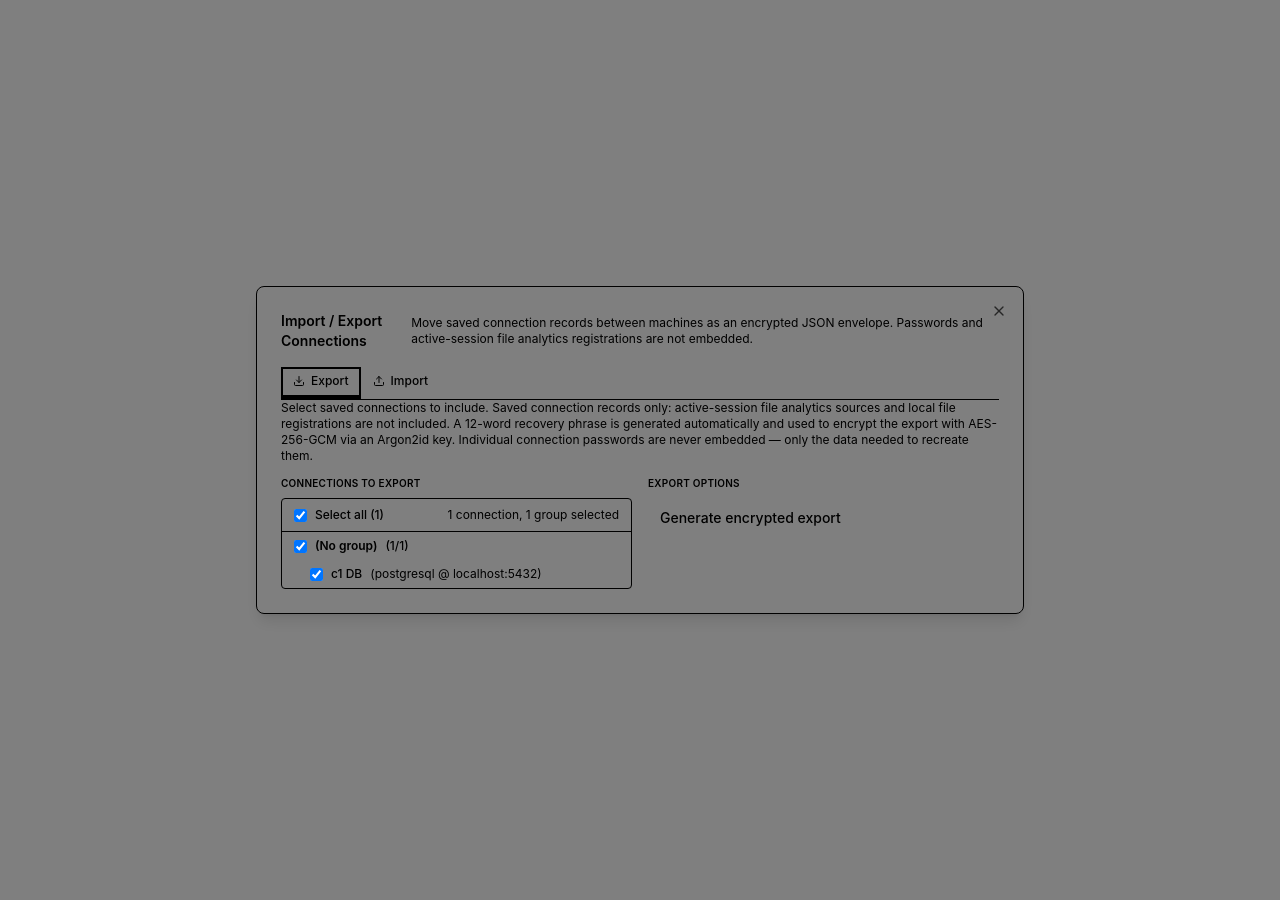
Test case: ImportExportDialog › Export › Generate button is disabled when 0 connections are selected
Uncheck the only connection via select-all.
Step 1. Click the checkbox labelled "Select all (1)" → (300, 515), box [294, 508, 307, 522]
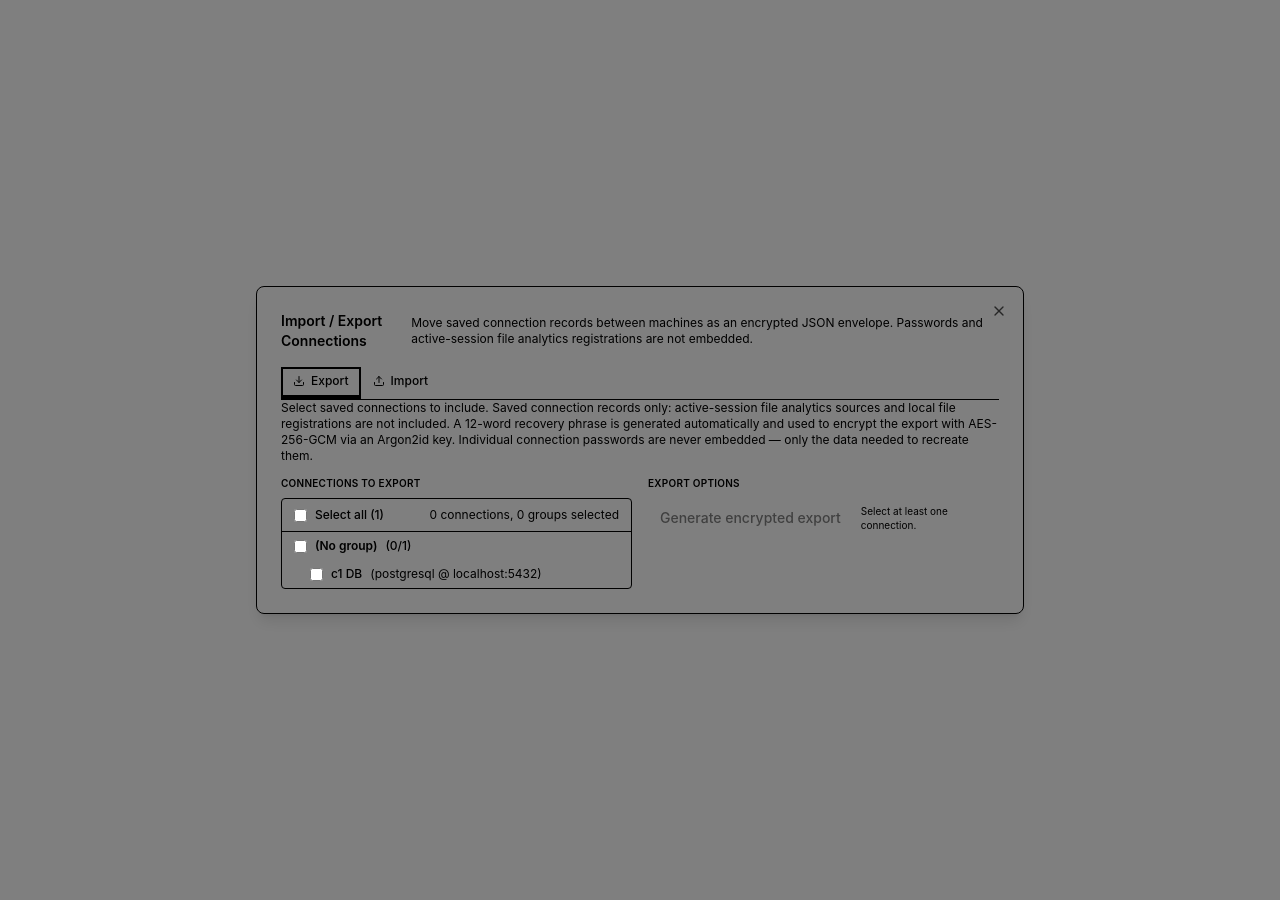
Now the button "Generate encrypted export" is disabled, box [648, 502, 853, 534]
